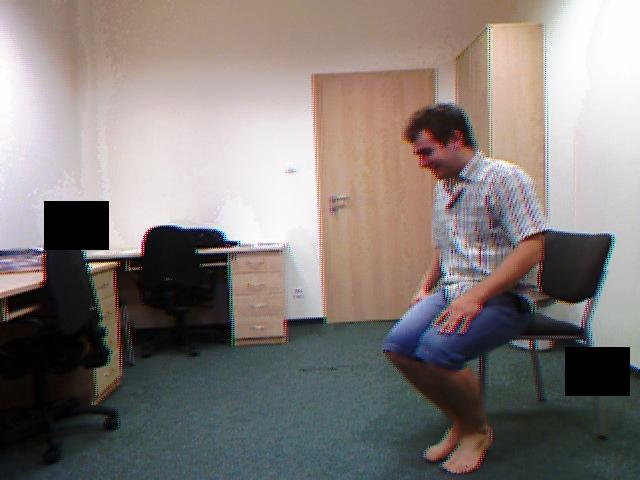sitting: (372, 96, 554, 480)
